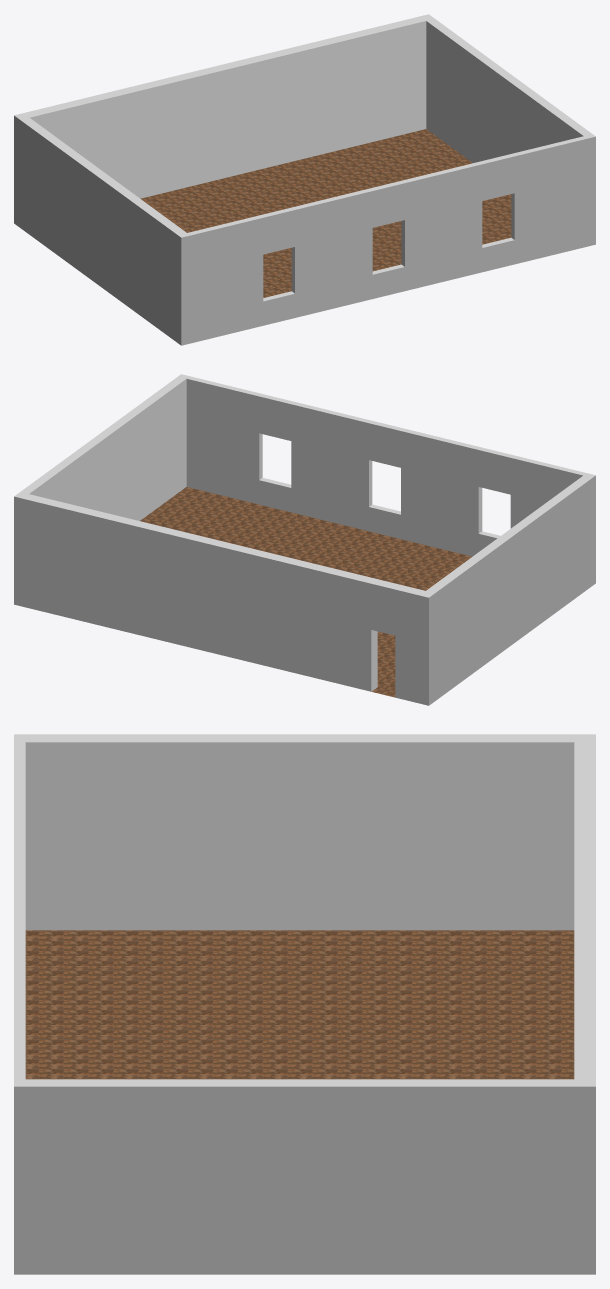
Rendered from classroomR.fbx.
The picture shows the model from 3 angles, top to bottom: view 1: azimuth 30°, elevation 25°; view 2: azimuth 150°, elevation 25°; view 3: azimuth 270°, elevation 25°; orthographic projection. The views are drawn at different scales.
Visible parts, largest first — view 1: Classroom 1.005; view 2: Classroom 1.005; view 3: Classroom 1.005.
Boxes of the visible parts, x1,y1,x2,y2 form: Classroom 1.005: (14, 14, 595, 345); Classroom 1.005: (14, 374, 595, 705); Classroom 1.005: (14, 734, 595, 1274).
Bounding box in the file's own units: 2732 × 680 × 1907.
